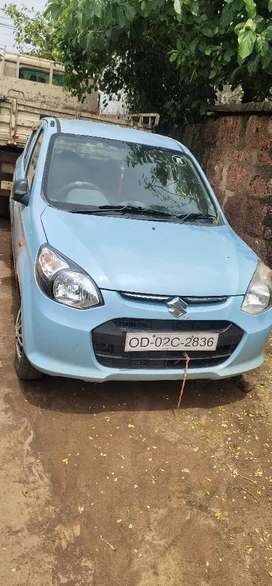OD02C2836: (124, 328, 219, 350)
